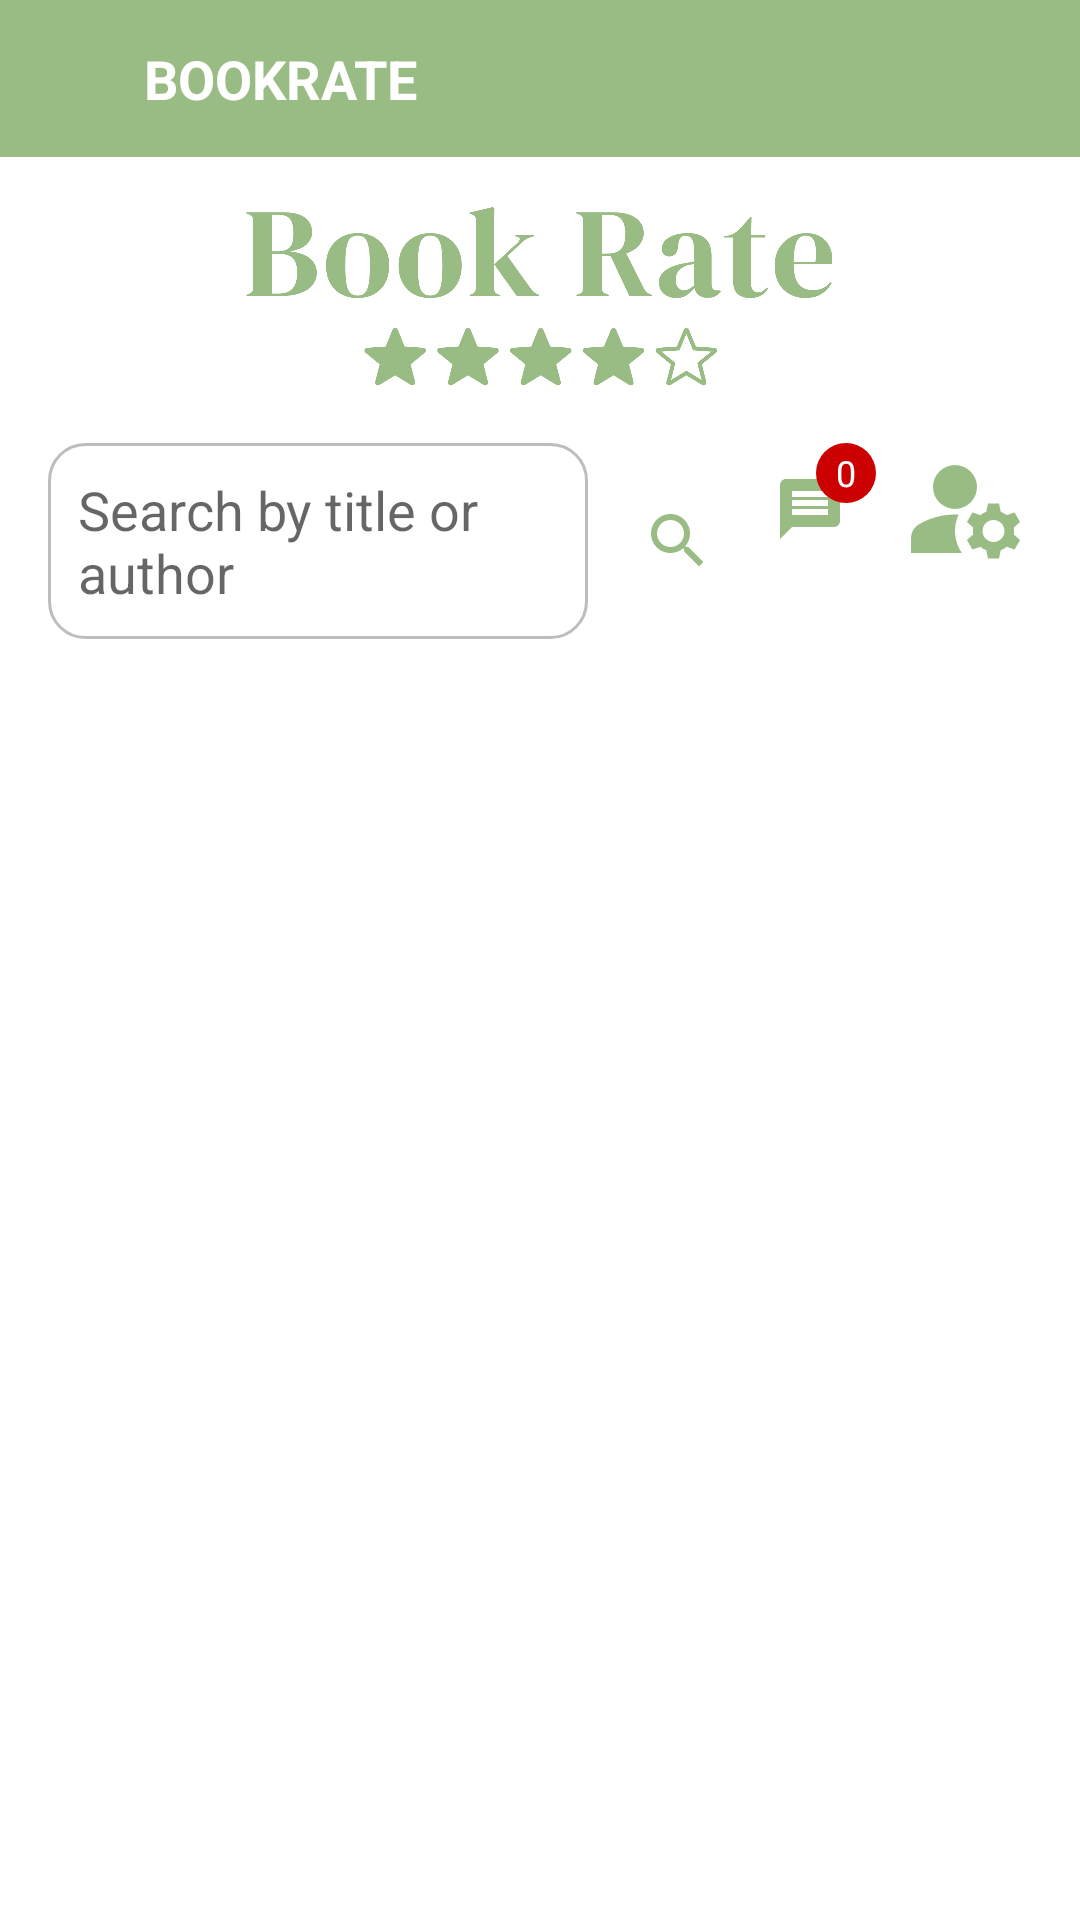

Where to tap for icons on this 1080 × 1920 app screen, as (x=x, y=y):
Open Active Chats: (x=828, y=491)
Profile: (x=965, y=512)
